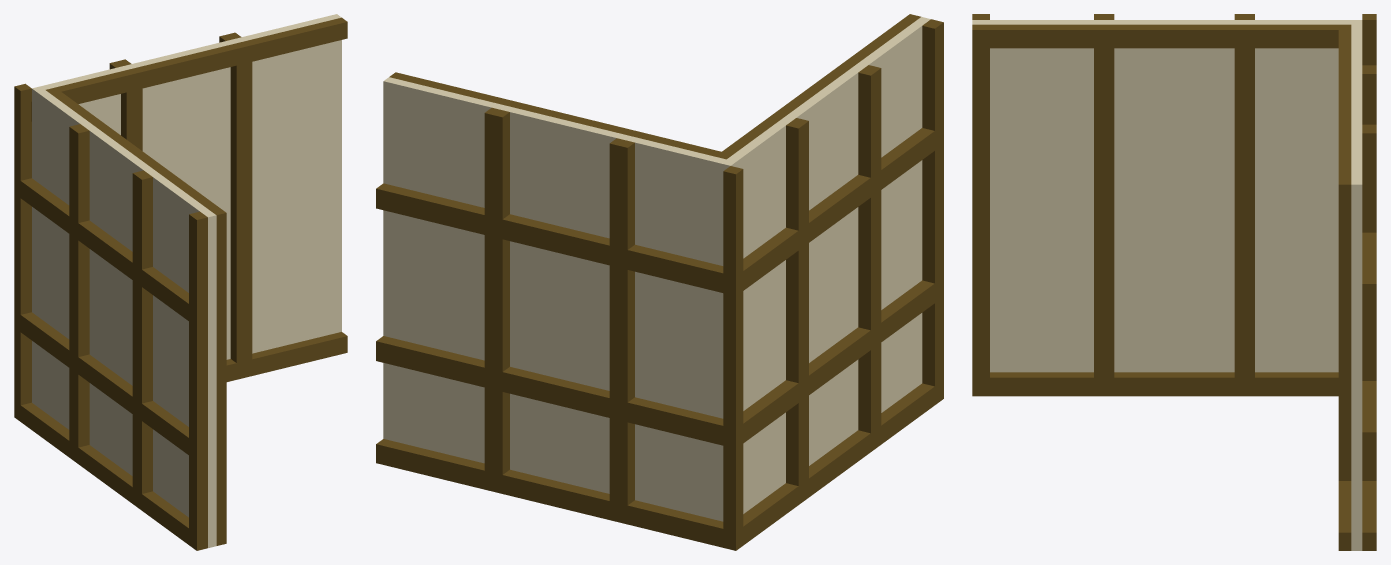
File: CornerPiece.fbx
The picture shows the model from 3 angles, left to right: view 1: azimuth 30°, elevation 25°; view 2: azimuth 150°, elevation 25°; view 3: azimuth 270°, elevation 25°; orthographic projection. The views are drawn at different scales.
Visible parts, largest first — view 1: polySurface71; view 2: polySurface71; view 3: polySurface71.
Boxes of the visible parts, x1,y1,x2,y2 form: polySurface71: (14, 14, 347, 550); polySurface71: (376, 14, 943, 550); polySurface71: (972, 14, 1376, 550).
Size of the model in its own units: 3 by 3 by 3.
